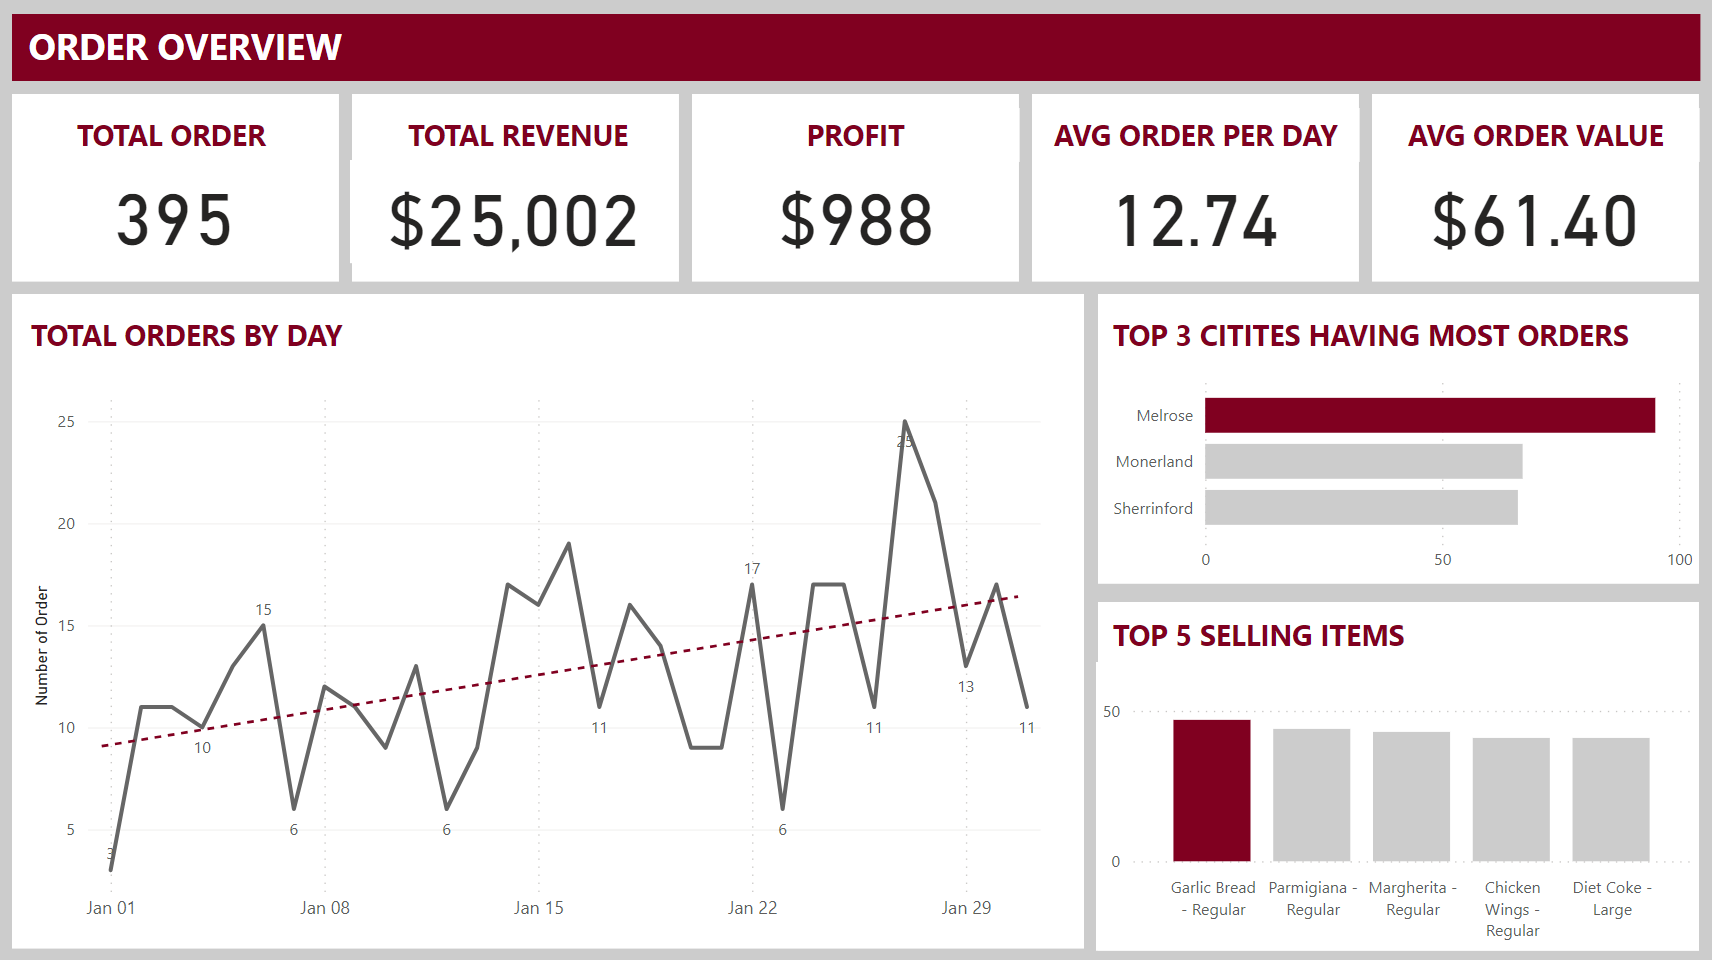

The page's visual inventory and layout, read from the dashboard file:
{"tool":"powerbi","page":{"name":"Order","canvas":[1280,720],"ordinal":0},"visuals":[{"type":"shape","box":[0,0,1280,720],"z":0},{"type":"shape","box":[10,70,244,140],"z":1000},{"type":"shape","box":[264,70,244,140],"z":2000},{"type":"shape","box":[518,70,244,140],"z":3000},{"type":"shape","box":[772,70,244,140],"z":4000},{"type":"shape","box":[10,220,800,488.6],"z":5000},{"type":"textbox","box":[32,80,195.7,40],"z":6000},{"type":"textbox","box":[291.4,80,194.3,40],"z":7000},{"type":"textbox","box":[518.6,80,244.3,40],"z":8000},{"type":"lineChart","title":"TOTAL ORDERS BY DAY","fields":{"Y":["CountNonNull(OrderHeader.OrderID)"],"Category":["OrderHeader.OrderDate"]},"box":[20.6,285.4,771,411.6],"z":9000},{"type":"textbox","box":[10,10,1260,50],"z":10000},{"type":"shape","box":[1026,70,244,140],"z":11000},{"type":"card","fields":{"Values":["Count(OrderHeader.OrderID)"]},"box":[42.9,120,177.1,75],"z":12000},{"type":"card","fields":{"Values":["All Measure.Total Revenue"]},"box":[263.4,119.4,244.2,76.8],"z":13000},{"type":"card","fields":{"Values":["All Measure.Profit"]},"box":[548.6,120,182.9,75],"z":14000},{"type":"textbox","box":[771.4,80,244.3,40],"z":15000},{"type":"card","fields":{"Values":["All Measure.Average Order per Day"]},"box":[801.2,119.4,182.5,76.8],"z":16000},{"type":"textbox","box":[20,230,334.3,40],"z":17000},{"type":"shape","box":[821.4,220,448.6,215.7],"z":18000},{"type":"clusteredBarChart","fields":{"Category":["Address.ShippingCity"],"Y":["CountNonNull(OrderHeader.OrderID)"]},"box":[821.4,270,448.6,165.7],"z":19000},{"type":"textbox","box":[827.1,230,437.1,40],"z":20000},{"type":"shape","box":[821.4,448.6,448.6,260],"z":21000},{"type":"clusteredColumnChart","fields":{"Category":["MenuItem.MenuItemName"],"Y":["CountNonNull(OrderDetail.OrderID)"]},"box":[820,494.3,450,215.7],"z":22000},{"type":"textbox","box":[827.1,454.3,437.1,40],"z":23000},{"type":"textbox","box":[1025.7,80,244.3,40],"z":24000},{"type":"card","fields":{"Values":["All Measure.Average Order Value per Day"]},"box":[1045.4,119.4,204.4,76.8],"z":25000}]}

Visuals, with their boxes in screenshot pixels (x1, y1, x2, y2), scaled from the page's 1280x720 canvas onto the 1712x960 screenshot:
shape: [0,0,1711,959]
shape: [13,93,340,280]
shape: [353,93,679,280]
shape: [693,93,1019,280]
shape: [1033,93,1359,280]
shape: [13,293,1083,945]
textbox: [43,107,305,160]
textbox: [390,107,650,160]
textbox: [694,107,1020,160]
"TOTAL ORDERS BY DAY" lineChart: [28,381,1059,929]
textbox: [13,13,1699,80]
shape: [1372,93,1699,280]
card - Count(OrderHeader.OrderID): [57,160,294,260]
card - All Measure.Total Revenue: [352,159,679,262]
card - All Measure.Profit: [734,160,978,260]
textbox: [1032,107,1358,160]
card - All Measure.Average Order per Day: [1072,159,1316,262]
textbox: [27,307,474,360]
shape: [1099,293,1699,581]
clusteredBarChart - Address.ShippingCity x CountNonNull(OrderHeader.OrderID): [1099,360,1699,581]
textbox: [1106,307,1691,360]
shape: [1099,598,1699,945]
clusteredColumnChart - MenuItem.MenuItemName x CountNonNull(OrderDetail.OrderID): [1097,659,1699,947]
textbox: [1106,606,1691,659]
textbox: [1372,107,1699,160]
card - All Measure.Average Order Value per Day: [1398,159,1672,262]
